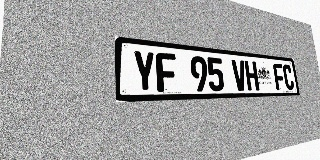5: (207, 57, 225, 91)
9: (190, 55, 209, 91)
C: (282, 64, 295, 90)
F: (155, 52, 178, 92), (273, 63, 286, 90)
H: (244, 61, 260, 91)
V: (231, 59, 248, 91)
Y: (132, 50, 157, 92)
